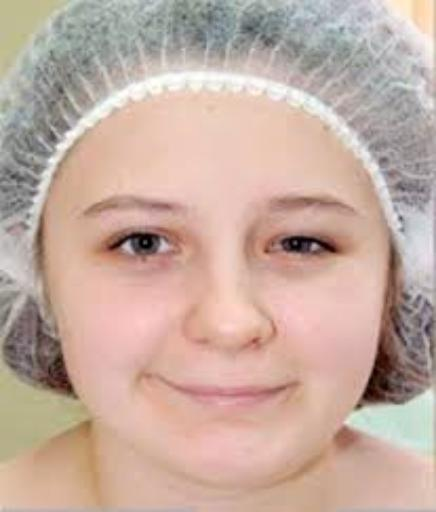left_eye: (263, 233, 341, 263)
left_lip_corner: (277, 376, 307, 398)
right_eye: (102, 230, 185, 265)
right_lip_corner: (148, 365, 192, 401)
